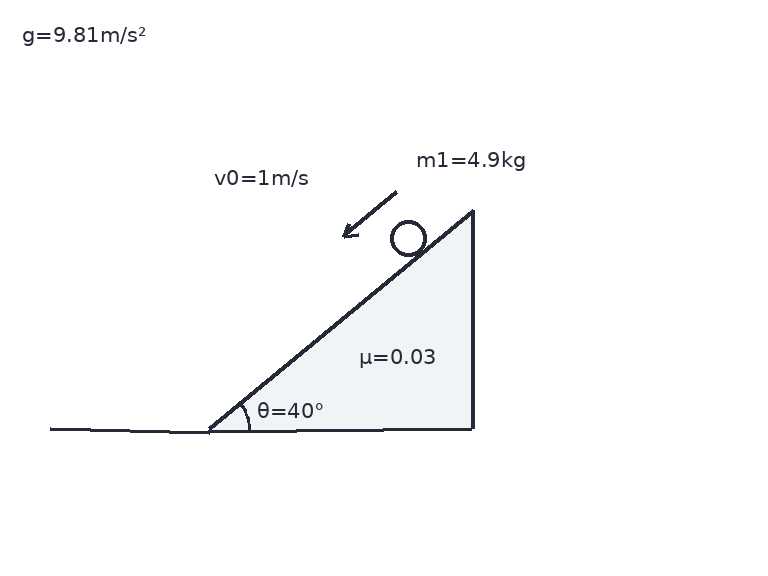ball: (388, 218, 428, 258)
ramp: (207, 207, 474, 431)
